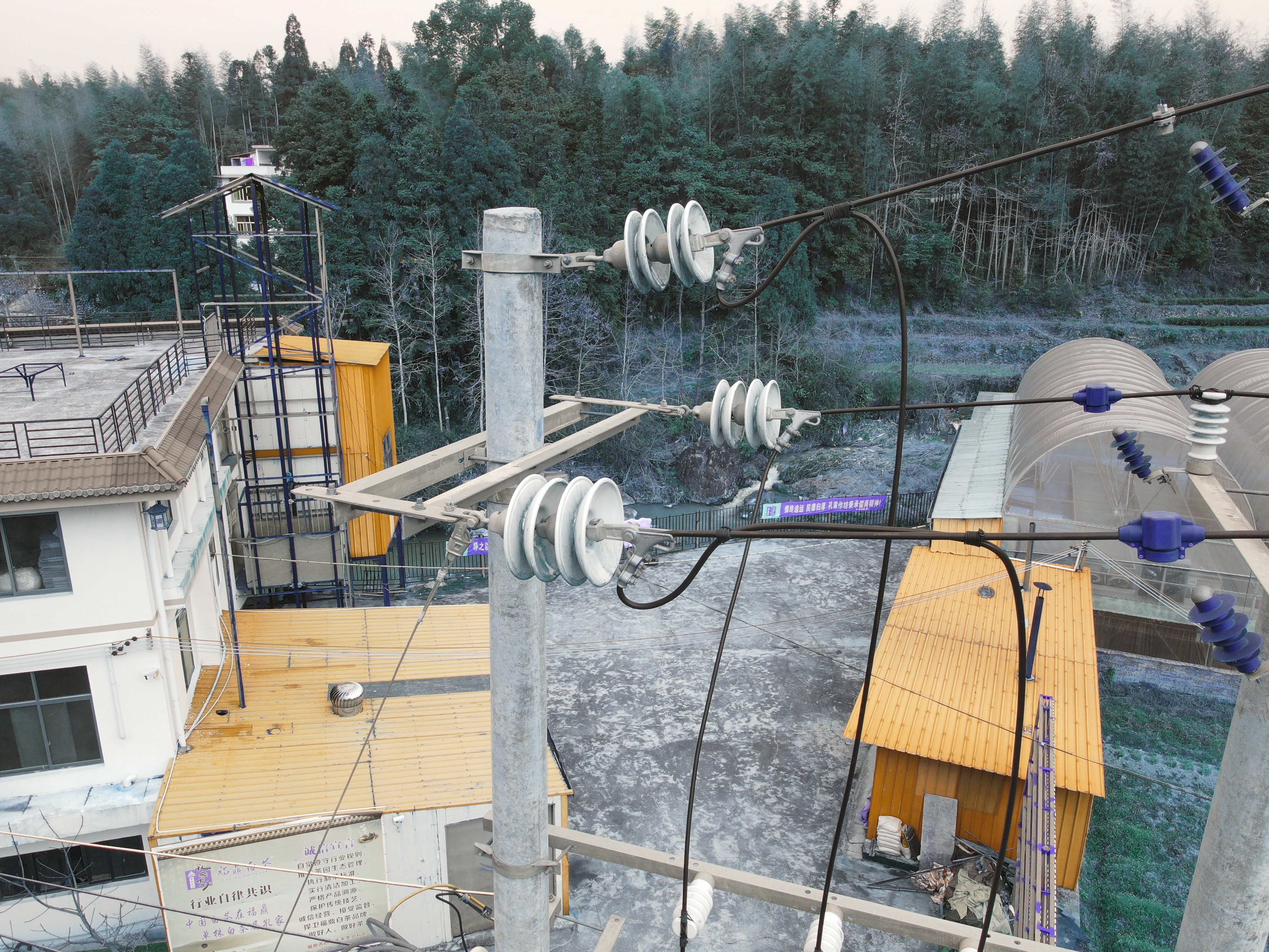severe_soiling_no_discharge_whole: (489, 471, 626, 587), (609, 199, 715, 294), (695, 375, 782, 454), (1185, 385, 1230, 475)
